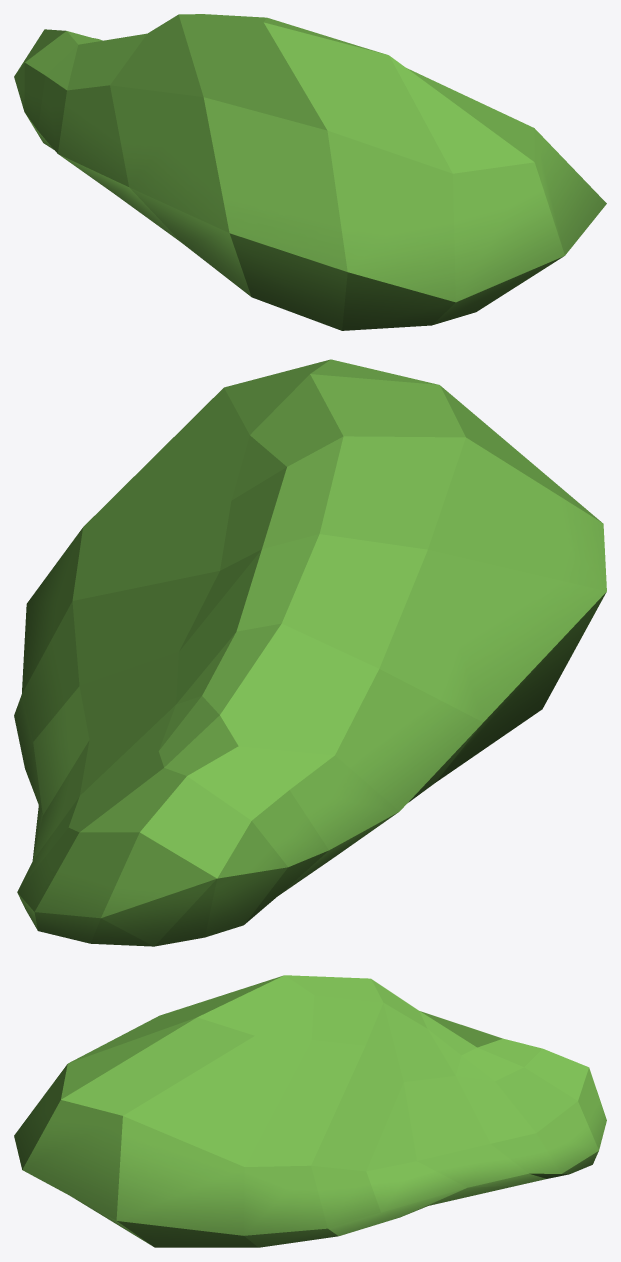
File: Bush-04.FBX
3 views of the same model, one above another, from view 1: azimuth 30°, elevation 25°; view 2: azimuth 150°, elevation 25°; view 3: azimuth 270°, elevation 25° (orthographic). The views are drawn at different scales.
Parts seen in each view (by area): view 1: Bush-04; view 2: Bush-04; view 3: Bush-04.
Part boxes in pixels (bbox=[...]): Bush-04: bbox=[14, 14, 606, 330]; Bush-04: bbox=[14, 359, 606, 946]; Bush-04: bbox=[14, 975, 606, 1247].
Bounding box in the file's own units: 267 × 148 × 438.
1 material, 1 textured.
